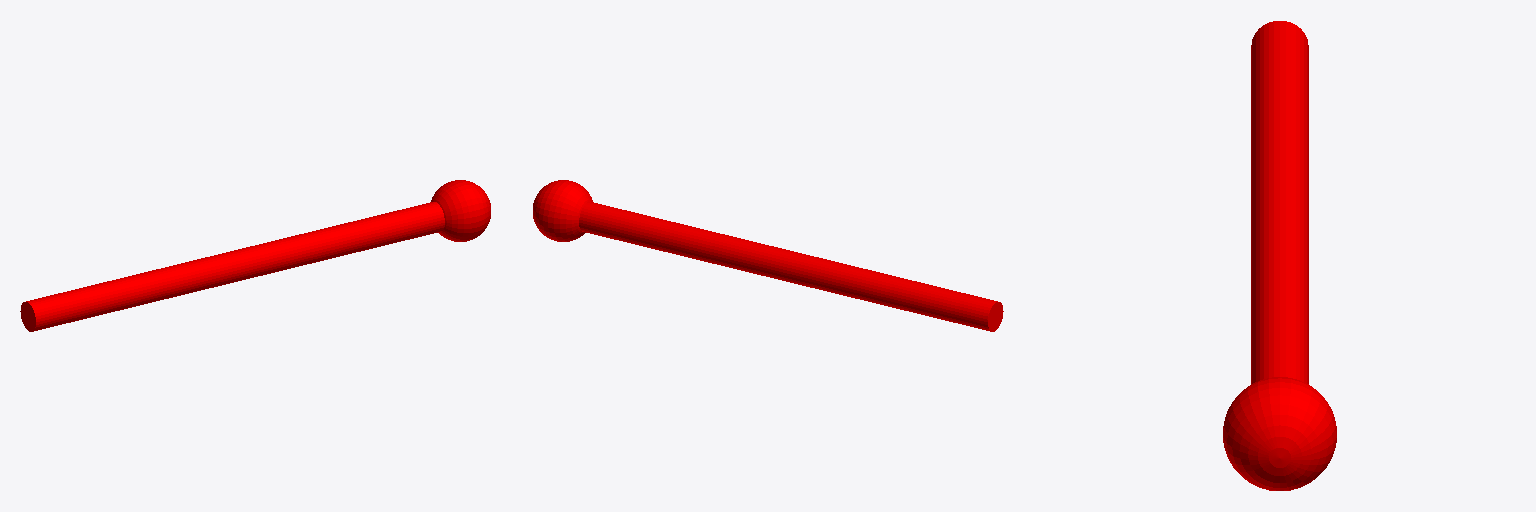
robot.urdf — marker_arrow:
<robot name="marker_arrow">

	<material name="color">
		<color rgba="1 0 0 1"/>
	</material>

	<link name="world"/>
	
	<link name="cylinder">
		<visual>
			<origin rpo="0 0 0" xyz="0 0 0.4"/>
			<geometry>
				<cylinder length="0.8" radius="0.025"/>
			</geometry>
			<material name="color"/>
		</visual>
	</link>
	
	<link name="sphere">
		<visual>
			<geometry>
				<sphere radius="0.05"/>
			</geometry>
			<material name="color"/>
		</visual>
	</link>
	
	<joint name="joint0" type="fixed">
		<origin rpy="0 1.57 0" xyz="0 0 0"/>
		<parent link="world" />
		<child link="cylinder" />
	</joint>
	
	<joint name="joint1" type="fixed">
		<origin rpy="0 0 0" xyz="0 0 0.8"/>
		<parent link="cylinder" />
		<child link="sphere" />
	</joint>
	
</robot>

--- What the picture shows (computed from the rendered views, not written in the file) ---
The picture shows the robot from 3 angles, left to right: view 1: azimuth 30°, elevation 25°; view 2: azimuth 150°, elevation 25°; view 3: azimuth 270°, elevation 25°; orthographic projection.
Model marker_arrow with 3 links and 2 joints (2 fixed), rooted at world, posed every joint at zero.
Links seen in each view (by area): view 1: cylinder, sphere; view 2: cylinder, sphere; view 3: cylinder, sphere.
Boxes of the visible links, left/top/right/bottom form: cylinder: left=20, top=202, right=444, bottom=331; sphere: left=431, top=180, right=490, bottom=241; cylinder: left=579, top=202, right=1003, bottom=331; sphere: left=533, top=180, right=592, bottom=241; cylinder: left=1251, top=21, right=1308, bottom=383; sphere: left=1223, top=377, right=1336, bottom=490.
Bounding box of the posed robot: 0.85 × 0.1 × 0.1 m (x, y, z).
Geometry: primitives only (box / cylinder / sphere), no mesh files.